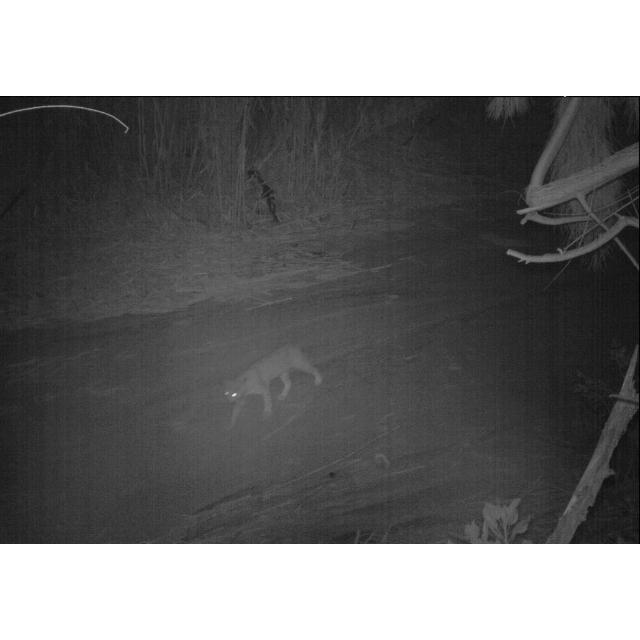animals: (222, 341, 324, 429)
